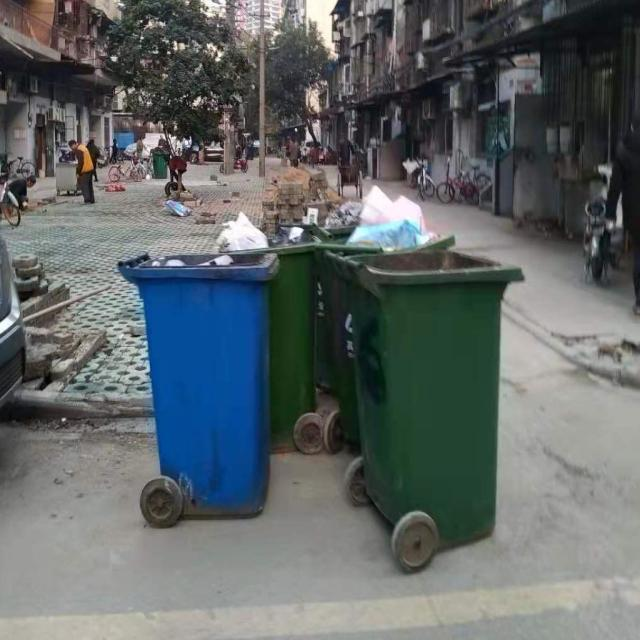garbage_bin: (118, 251, 278, 516)
overflow: (332, 187, 526, 548), (215, 213, 322, 451)
